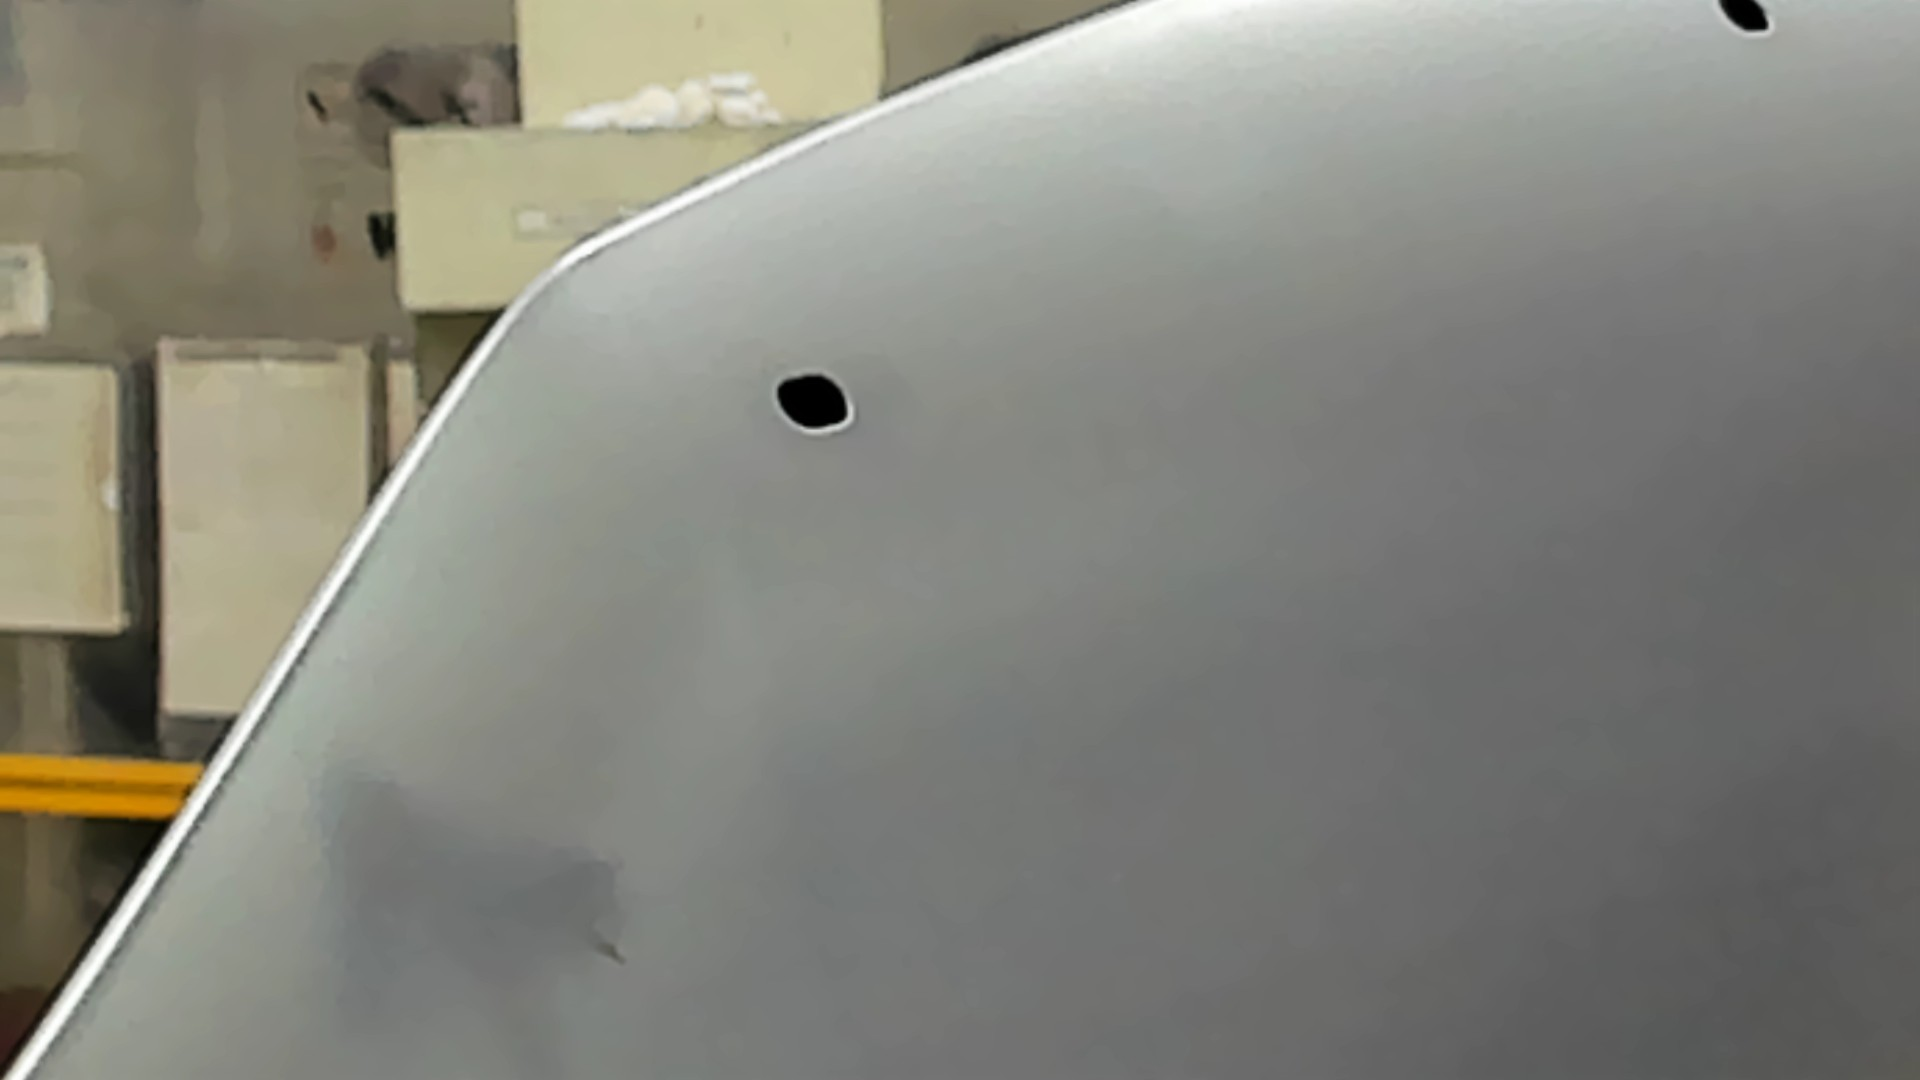amorfo: (769, 361, 864, 440), (1712, 1, 1782, 44)
capo: (942, 100, 1920, 1080)
